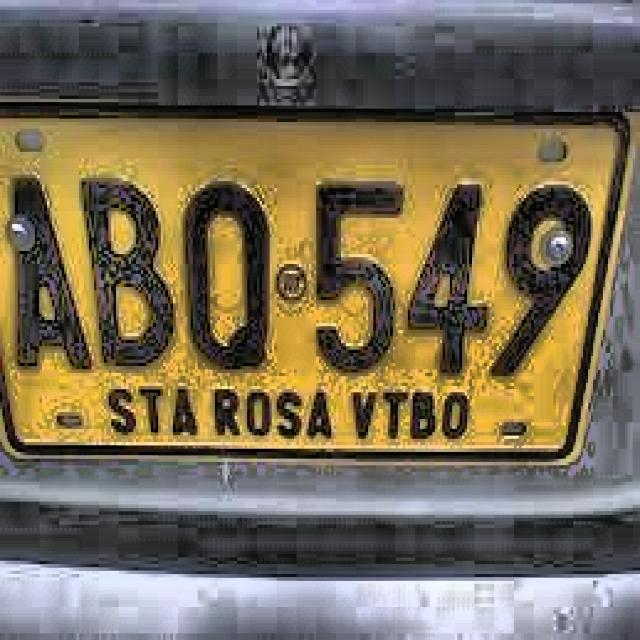plate: (1, 112, 635, 458)
